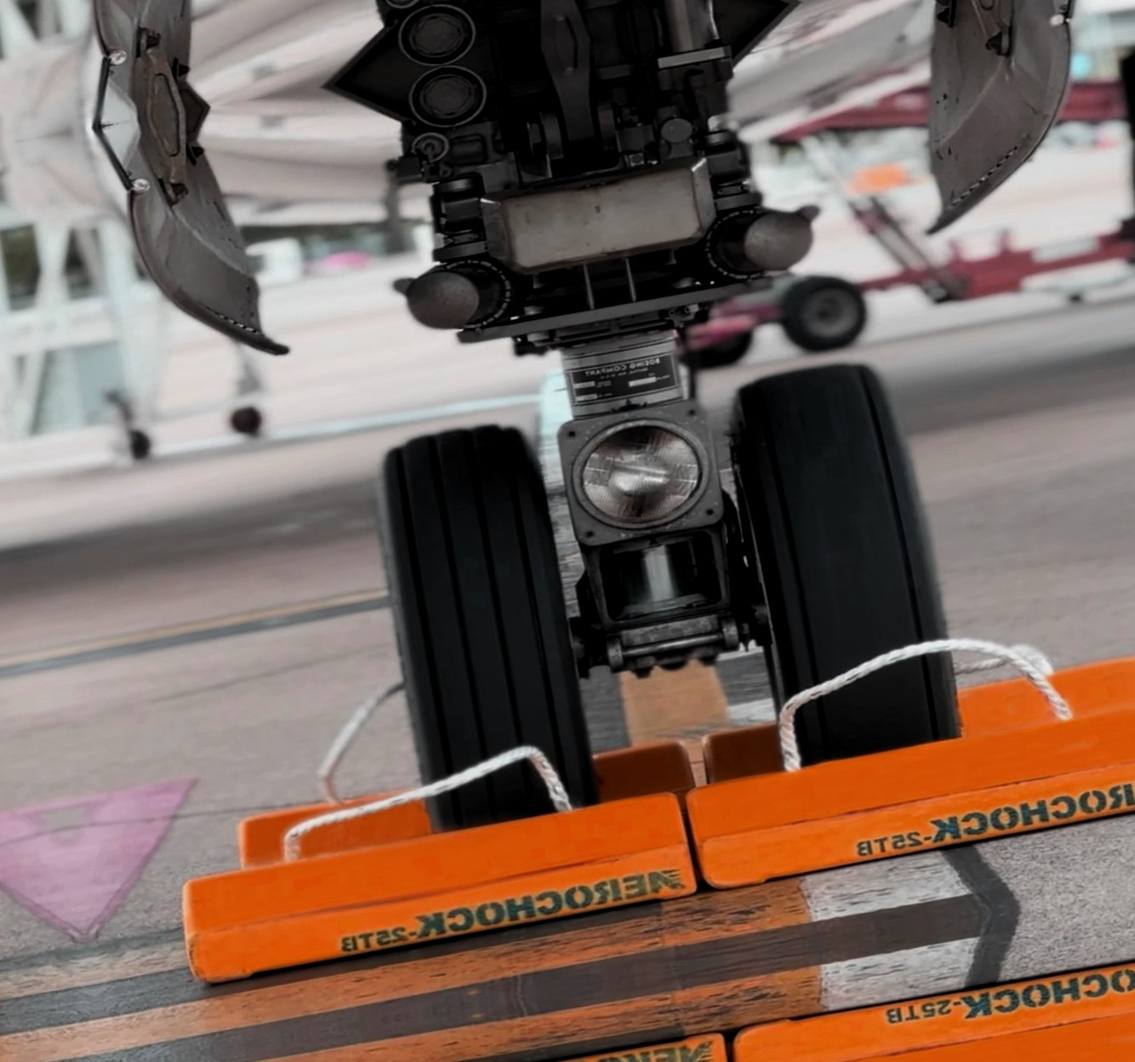chock: (170, 788, 699, 989), (681, 693, 1135, 896), (224, 736, 697, 874), (691, 647, 1135, 788), (725, 937, 1135, 1062)
wheel: (717, 349, 962, 767), (367, 414, 606, 836), (779, 269, 872, 354), (688, 324, 756, 370)
